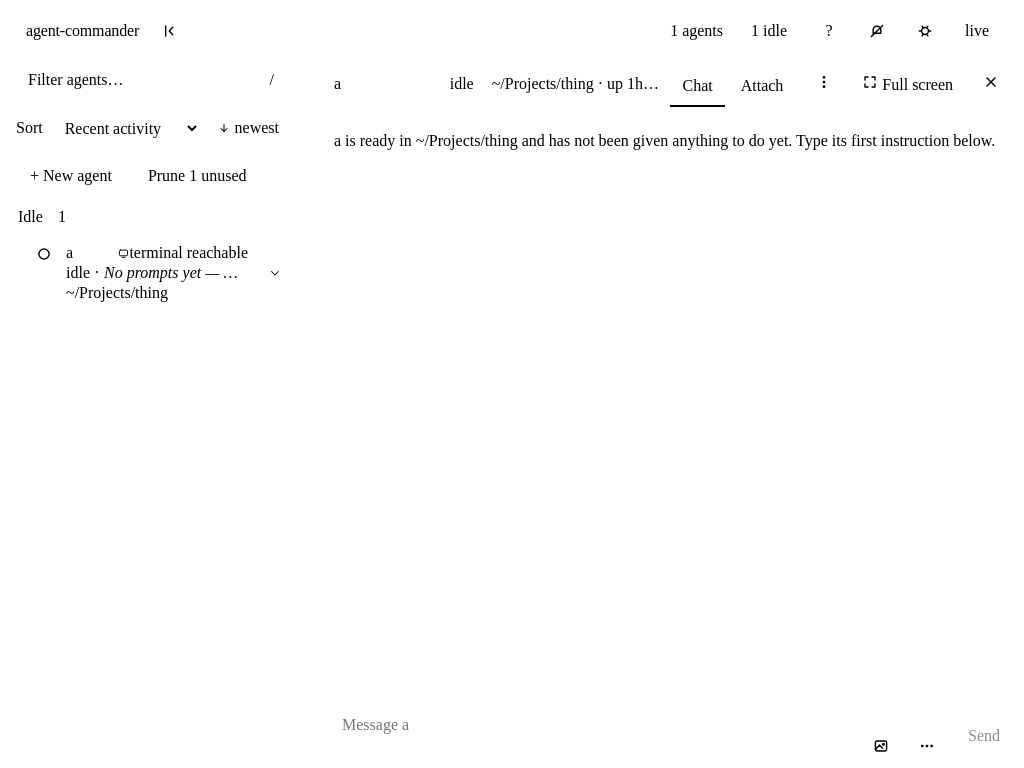
Scenario: the fleet column › hands the delegation poll over when it unmounts the list
What coordinates should you click on to do the following:
click the button with test id "sidebar-toggle"
I would click on:
 (170, 31)
Its box is [153, 14, 187, 48].
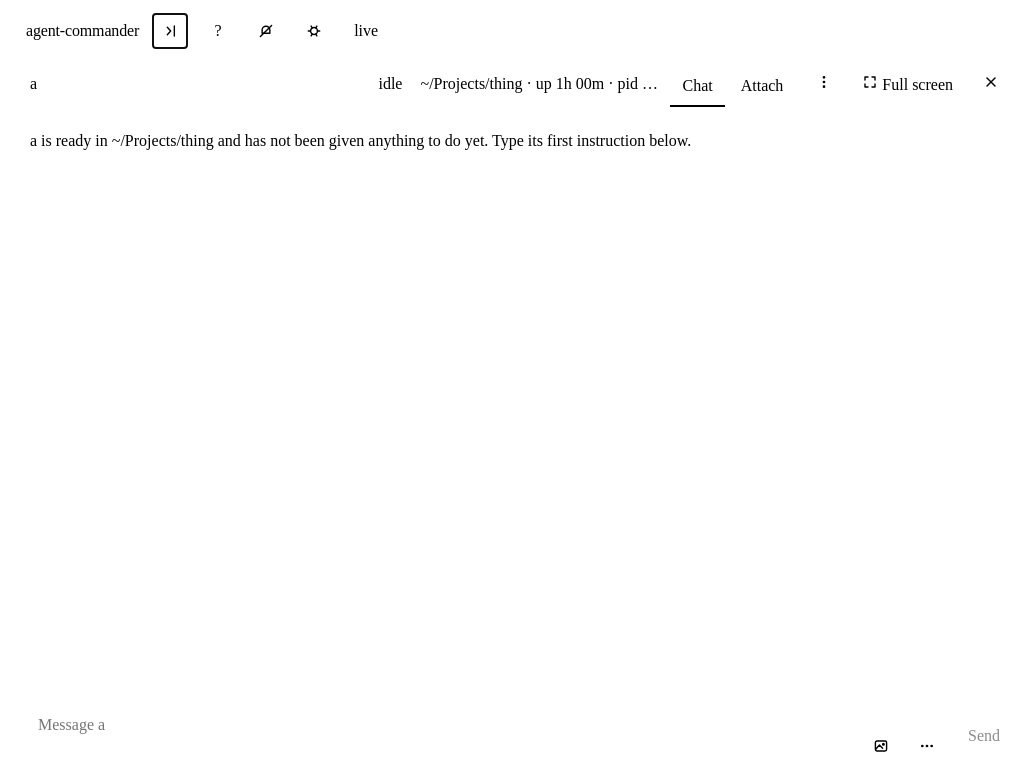
Now the element with test id "fleet-list" is gone
